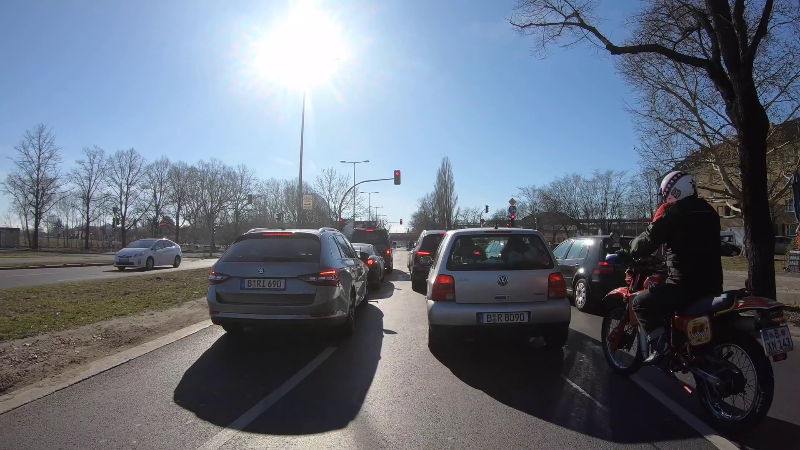Plate: (237, 274, 287, 292), (474, 310, 534, 325)
